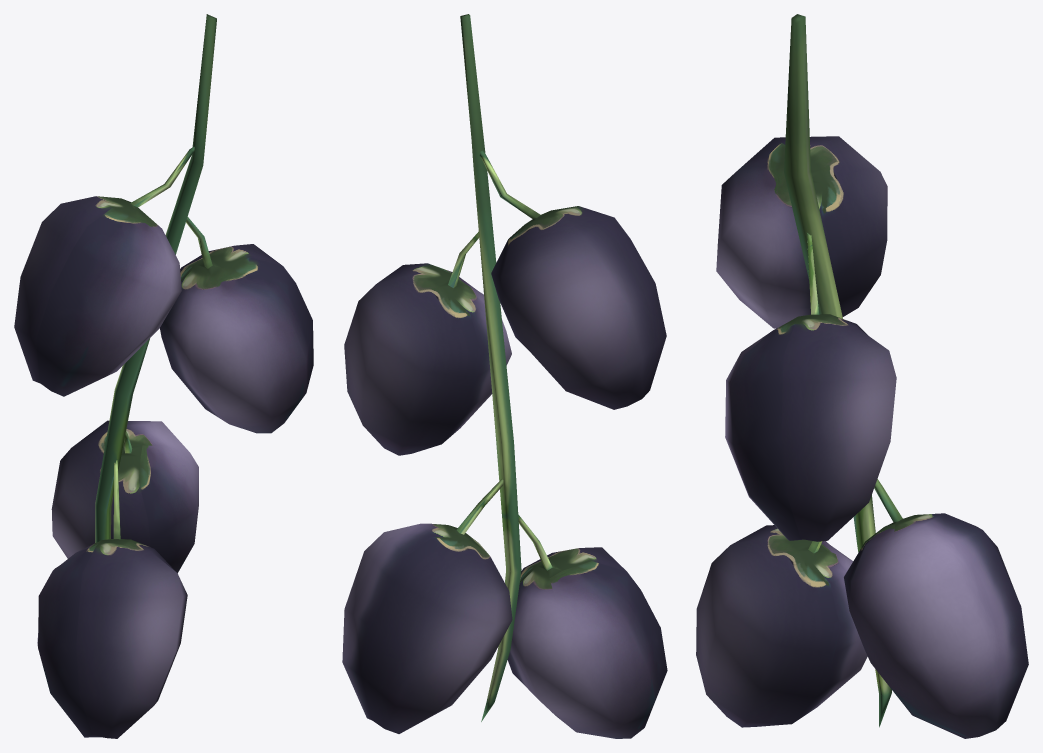
Rendered from Phoebe_Ianceolata_fruit.fbx.
The picture shows the model from 3 angles, left to right: view 1: azimuth 30°, elevation 25°; view 2: azimuth 150°, elevation 25°; view 3: azimuth 270°, elevation 25°; orthographic projection. The views are drawn at different scales.
Visible parts, largest first — view 1: phoebe_fruit_LOD0; view 2: phoebe_fruit_LOD0; view 3: phoebe_fruit_LOD0.
Boxes of the visible parts, <box> form: phoebe_fruit_LOD0: <box>14,14,313,738</box>; phoebe_fruit_LOD0: <box>342,14,667,738</box>; phoebe_fruit_LOD0: <box>696,14,1028,738</box>.
Size of what is drawn, in the model's own units: 34.27 by 78.55 by 30.43.
